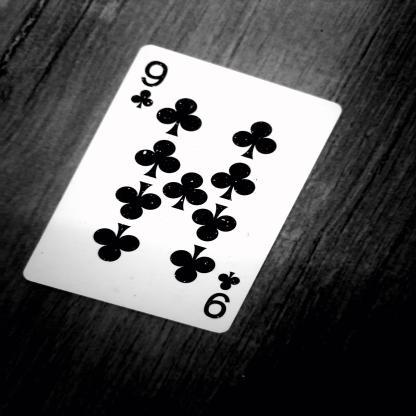9C: (117, 52, 179, 126), (204, 261, 250, 334)
